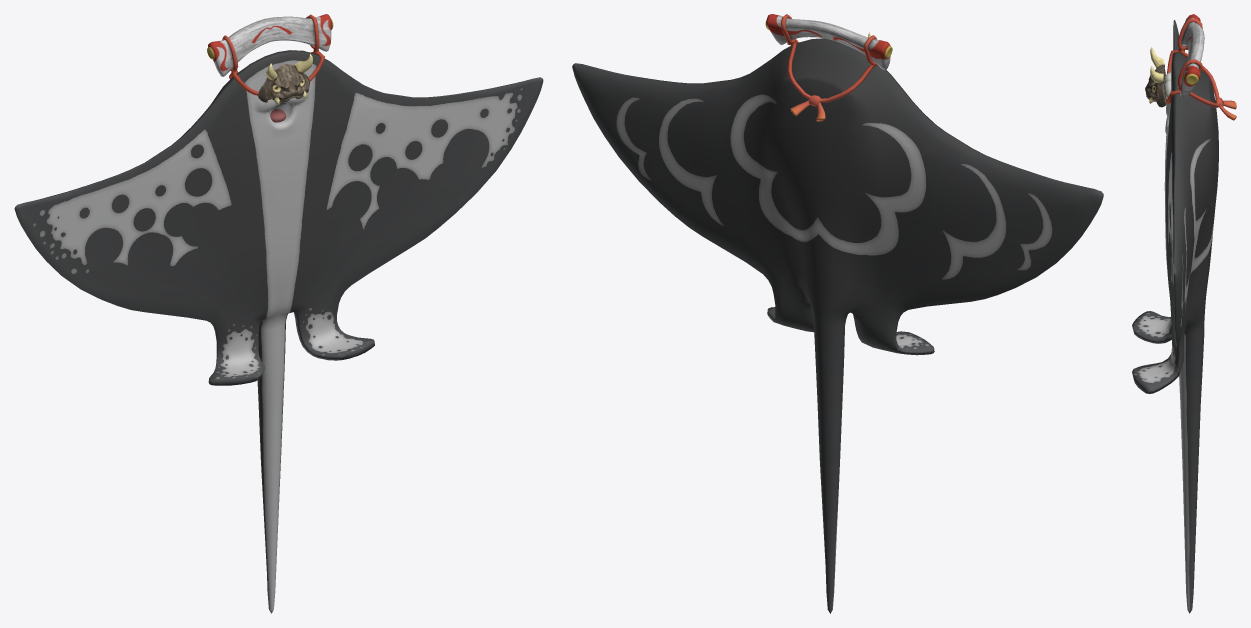
3 views of the same model, side by side, from view 1: azimuth 30°, elevation 25°; view 2: azimuth 150°, elevation 25°; view 3: azimuth 270°, elevation 25° (orthographic). The views are drawn at different scales.
Visible parts, largest first — view 1: AcceMetal_low__M_Body_C.001, OniMask_low1__M_OniMask; view 2: AcceMetal_low__M_Body_C.001; view 3: AcceMetal_low__M_Body_C.001, OniMask_low1__M_OniMask.
Part boxes in pixels (left/top/right/bottom): AcceMetal_low__M_Body_C.001: left=14, top=14, right=543, bottom=613; OniMask_low1__M_OniMask: left=257, top=54, right=312, bottom=104; AcceMetal_low__M_Body_C.001: left=572, top=14, right=1103, bottom=613; AcceMetal_low__M_Body_C.001: left=1132, top=14, right=1236, bottom=613; OniMask_low1__M_OniMask: left=1145, top=47, right=1166, bottom=107.
Size of the model in its own units: 4.43 by 4.74 by 0.7785.
Materials: 3 (3 with a texture image).
